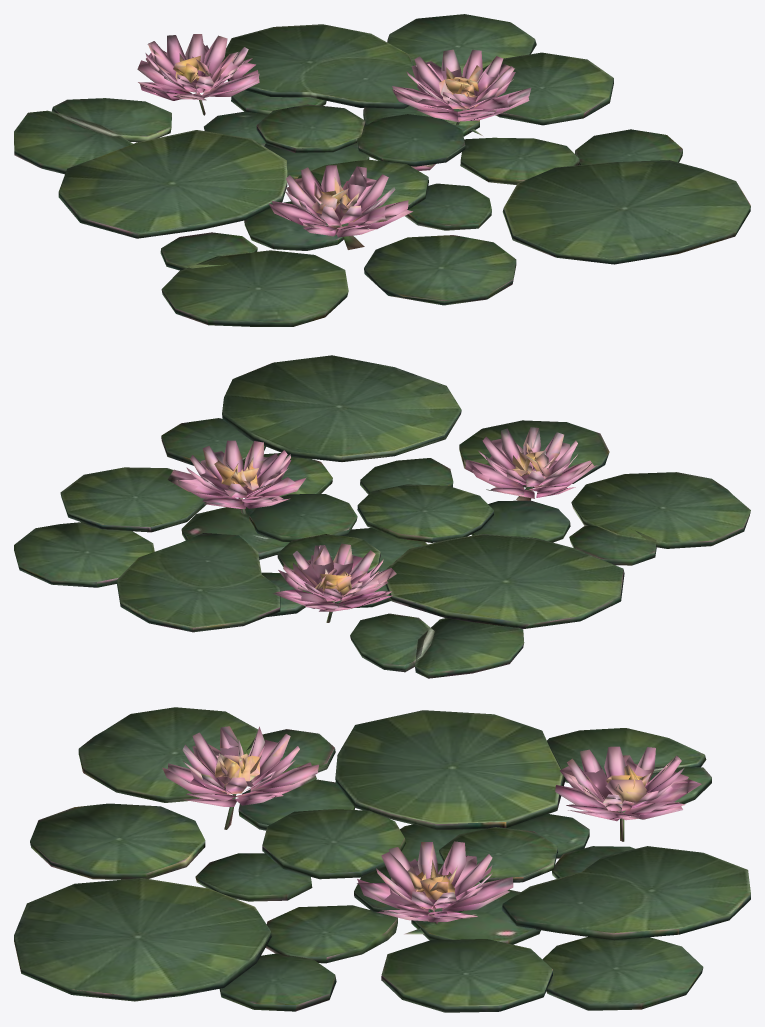
Rendered from rl_isle_lotus.glb.
3 renders of one model, top to bottom at view 1: azimuth 30°, elevation 25°; view 2: azimuth 150°, elevation 25°; view 3: azimuth 270°, elevation 25°, orthographic. The views are drawn at different scales.
Parts seen in each view (by area): view 1: kit-lotus-flower-pads-1; view 2: kit-lotus-flower-pads-1; view 3: kit-lotus-flower-pads-1.
Part boxes in pixels (x1,y1,x2,y2): kit-lotus-flower-pads-1: (14, 14, 750, 326); kit-lotus-flower-pads-1: (14, 355, 750, 678); kit-lotus-flower-pads-1: (14, 707, 750, 1012).
Bounding box in the file's own units: 1.57 × 0.1723 × 1.6.
Materials: 1 (1 with a texture image).
